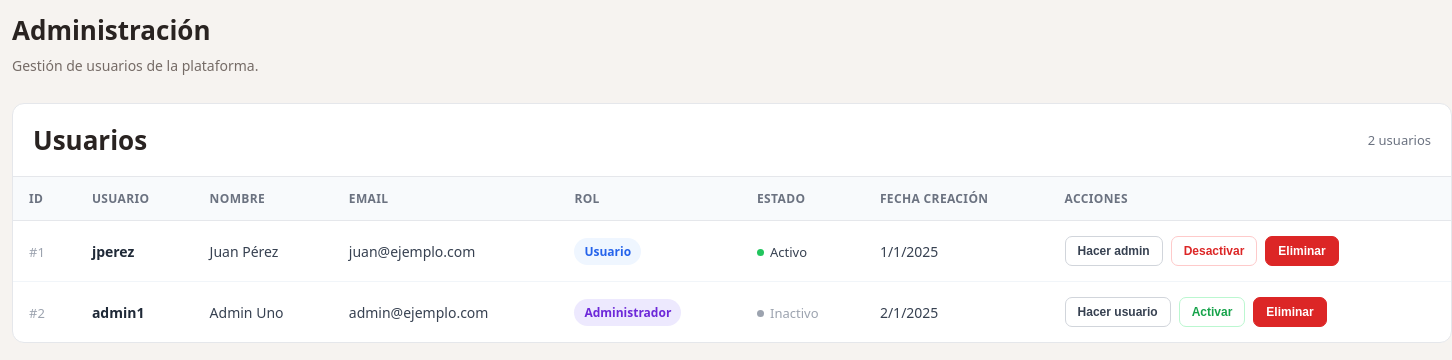
Test: Administracion › cambia el estado del usuario cuando se confirma la acción
Expected: the text "jperez" is shown, [92, 242, 134, 260]
Click the button "Desactivar": (1214, 251) [1171, 236, 1257, 266]
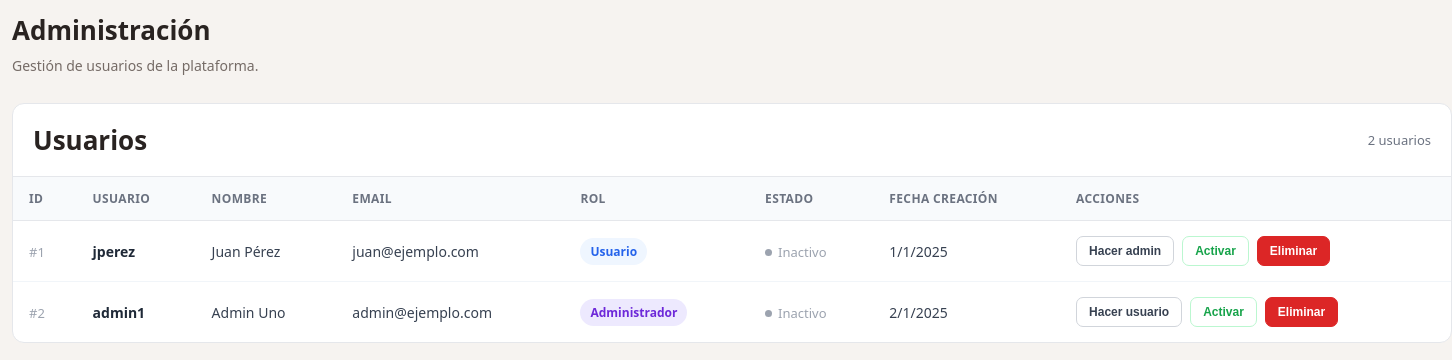
Expected: the text "Inactivo" in the row of "jperez" is shown, [778, 243, 827, 261]
